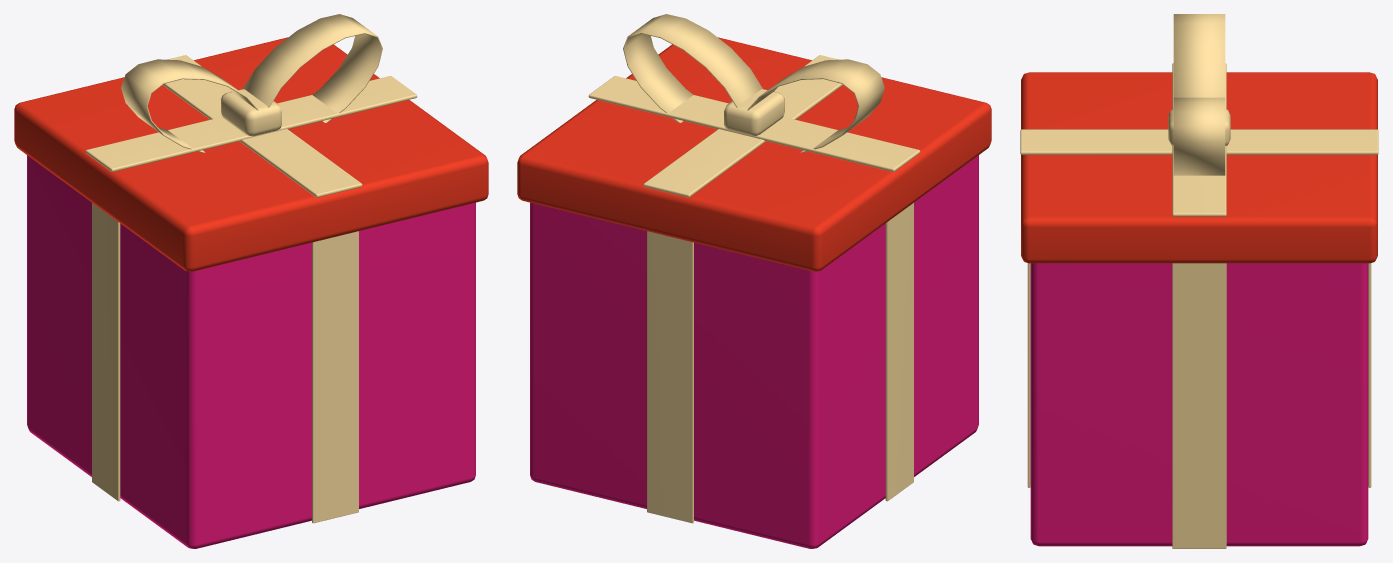
Rendered from 09_Gift_Box.glb.
The picture shows the model from 3 angles, left to right: view 1: azimuth 30°, elevation 25°; view 2: azimuth 150°, elevation 25°; view 3: azimuth 270°, elevation 25°; orthographic projection.
Visible parts, largest first — view 1: 09_Gift_Box_EXPORT; view 2: 09_Gift_Box_EXPORT; view 3: 09_Gift_Box_EXPORT.
Part boxes in pixels (left/top/right/bottom): 09_Gift_Box_EXPORT: left=14, top=14, right=488, bottom=548; 09_Gift_Box_EXPORT: left=517, top=14, right=991, bottom=548; 09_Gift_Box_EXPORT: left=1020, top=14, right=1378, bottom=548.
Size of the model in its own units: 0.53 by 0.6786 by 0.53.
